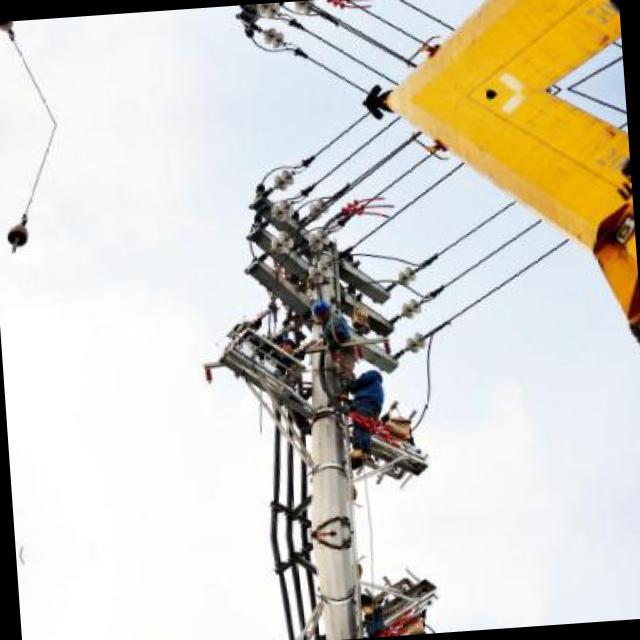helmet: (308, 296, 330, 322)
